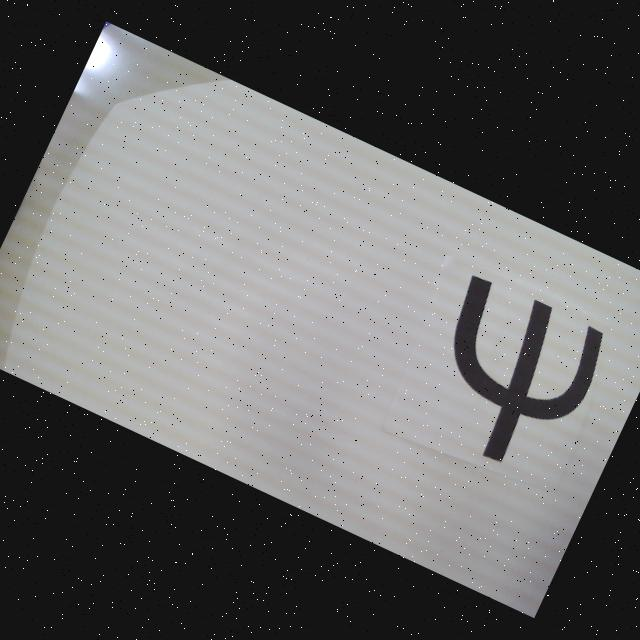PSI: (403, 270, 615, 487)
